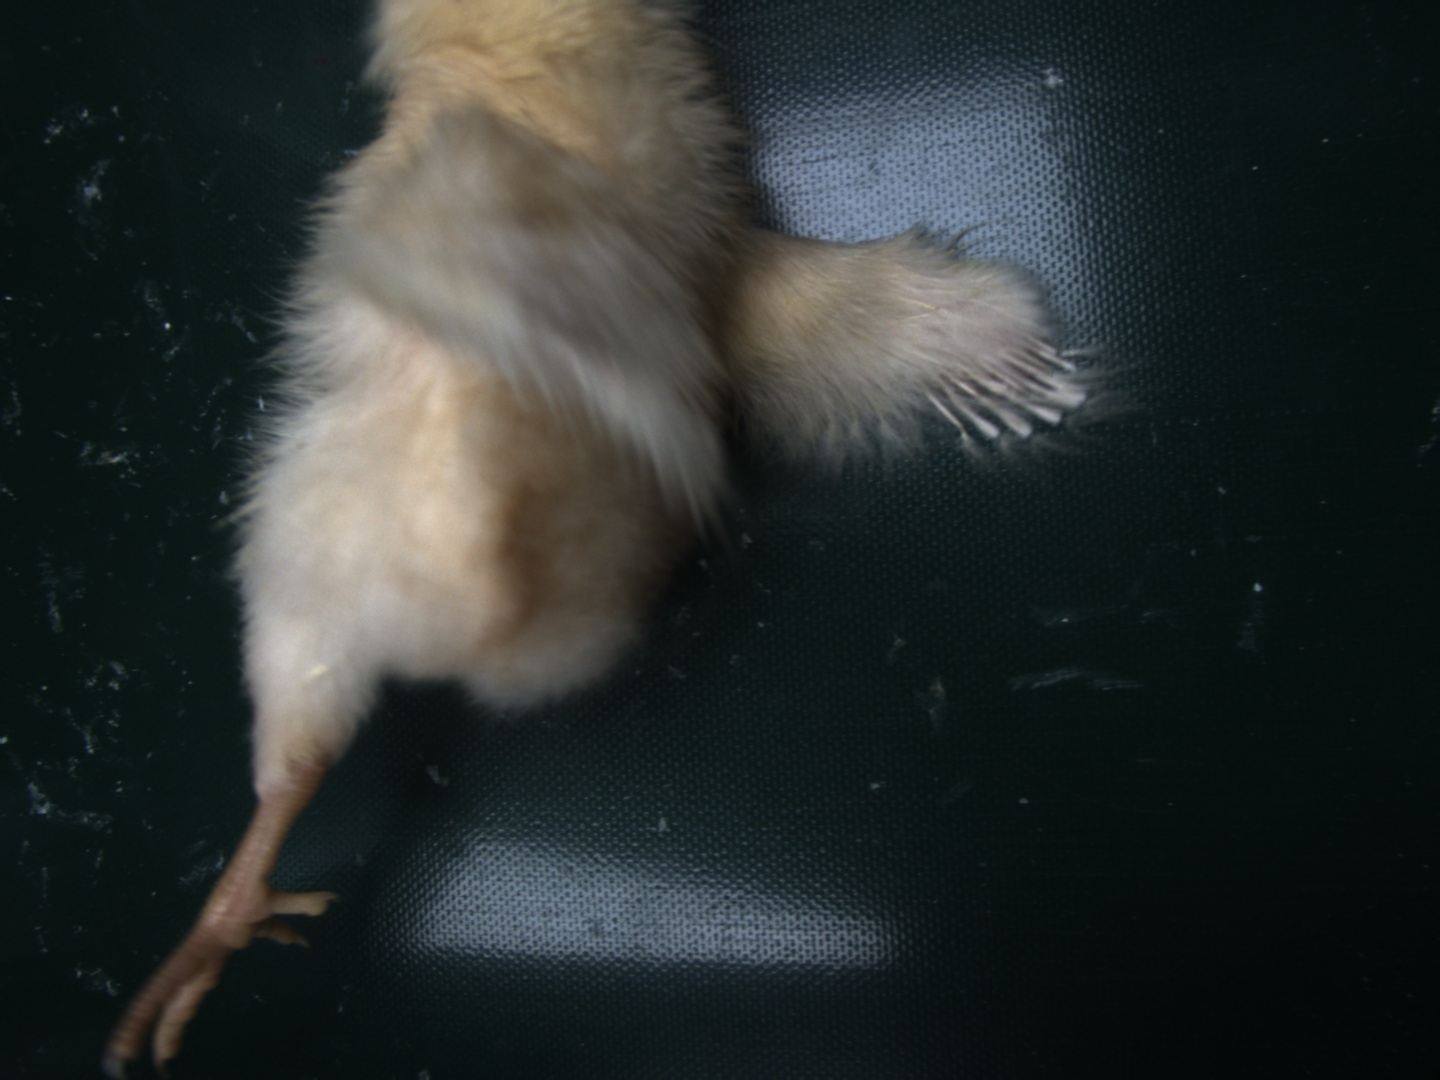female: (923, 336, 1091, 446)
